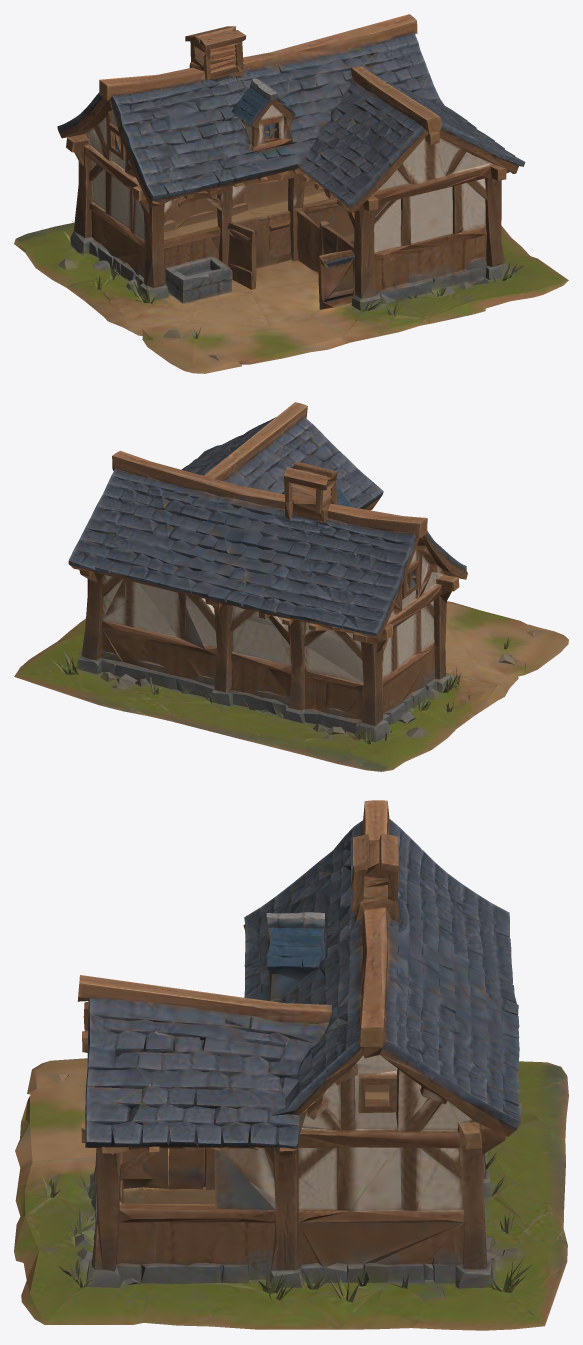
File: stable.glb
3 views of the same model, one above another, from view 1: azimuth 30°, elevation 25°; view 2: azimuth 150°, elevation 25°; view 3: azimuth 270°, elevation 25° (orthographic). The views are drawn at different scales.
Bounding box in the file's own units: 1.9 × 1.02 × 1.62.
Materials: 1 (1 with a texture image).
